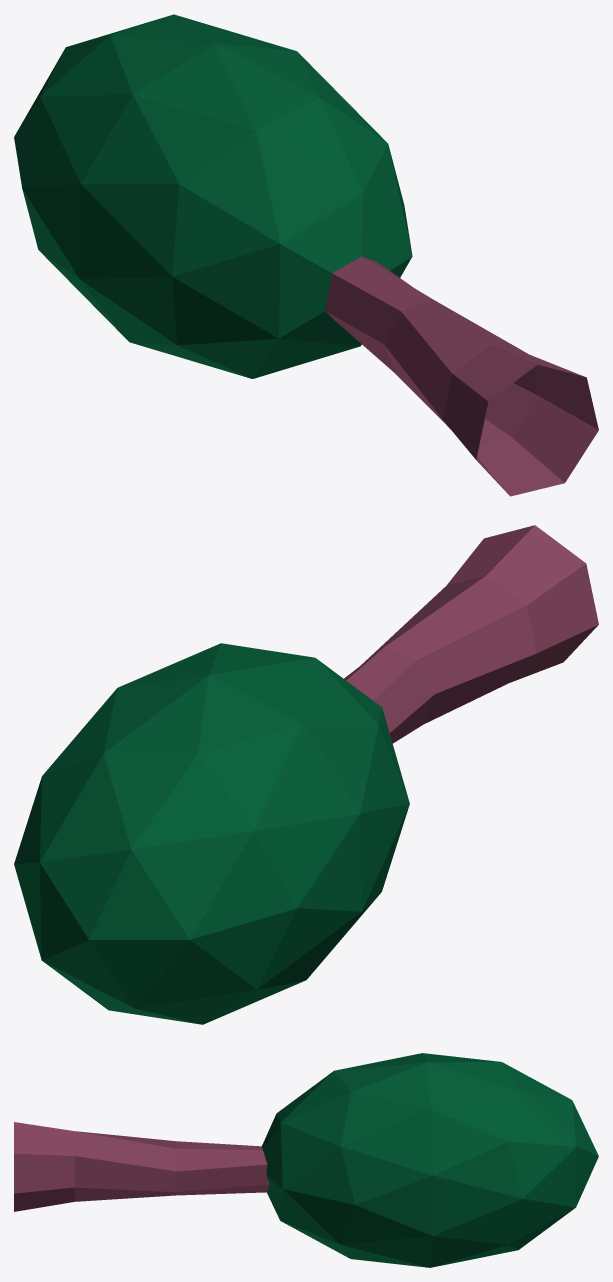
File: Tree_3.fbx
The picture shows the model from 3 angles, top to bottom: view 1: azimuth 30°, elevation 25°; view 2: azimuth 150°, elevation 25°; view 3: azimuth 270°, elevation 25°; orthographic projection. The views are drawn at different scales.
Parts seen in each view (by area): view 1: Tree_3.001; view 2: Tree_3.001; view 3: Tree_3.001.
Part boxes in pixels (x1,y1,x2,y2): Tree_3.001: (14, 14, 598, 496); Tree_3.001: (14, 525, 598, 1024); Tree_3.001: (14, 1053, 598, 1267).
Size of the model in its own units: 1.91 by 2 by 5.36.
